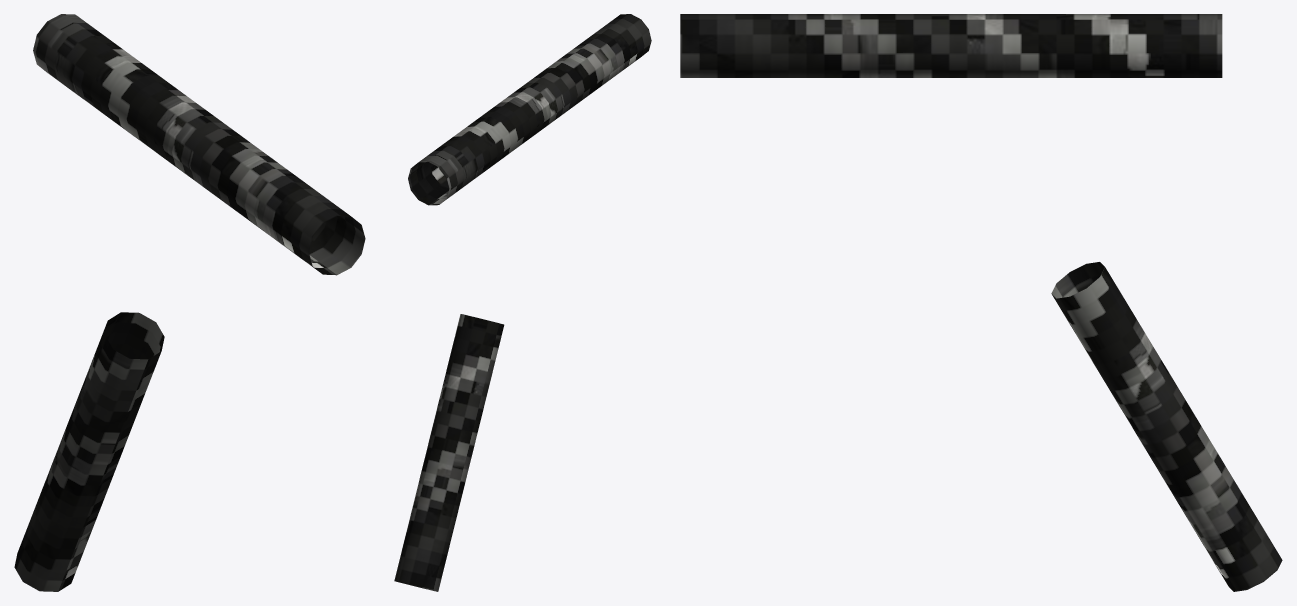
3 renders of one model, left to right at view 1: azimuth 30°, elevation 25°; view 2: azimuth 150°, elevation 25°; view 3: azimuth 270°, elevation 25°, orthographic. The views are drawn at different scales.
Visible parts, largest first — view 1: gear_front_f35_ext_3_0; view 2: gear_front_f35_ext_3_0; view 3: gear_front_f35_ext_3_0.
Part boxes in pixels (x1=…): gear_front_f35_ext_3_0: x1=14, y1=14, x2=365, y2=591; gear_front_f35_ext_3_0: x1=394, y1=14, x2=651, y2=591; gear_front_f35_ext_3_0: x1=680, y1=14, x2=1282, y2=591.
Bounding box in the file's own units: 8.72 × 85.4 × 81.76.
Materials: 1 (1 with a texture image).
